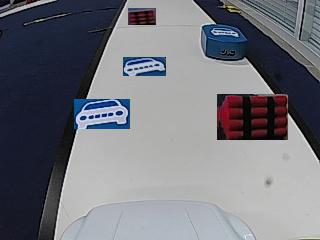safety: (210, 27, 240, 37)
